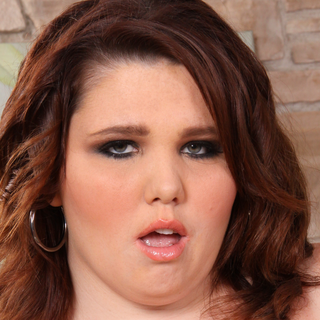eye: (94, 136, 144, 164), (176, 136, 223, 163)
